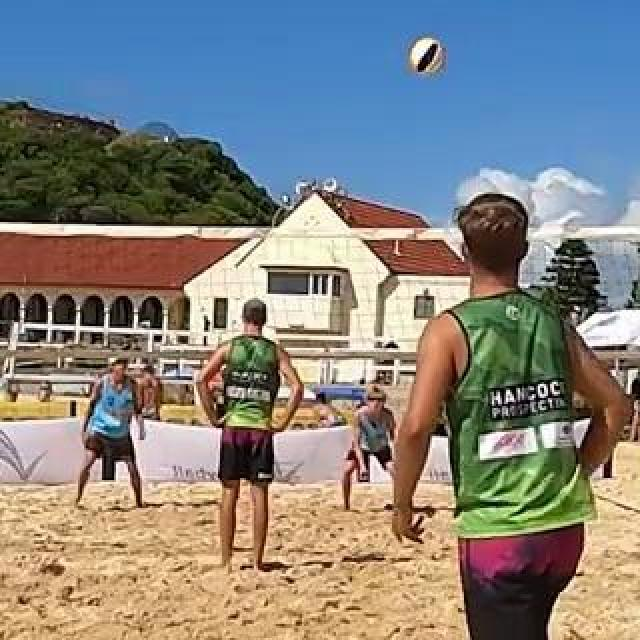volleyball: (410, 40, 444, 74)
